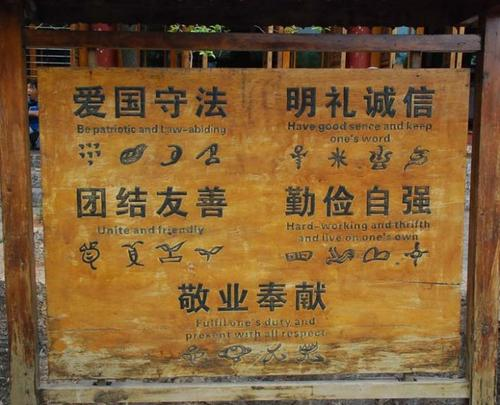chinese: (66, 80, 231, 119), (277, 79, 438, 117), (282, 180, 435, 219), (174, 278, 331, 316), (70, 183, 228, 220)
naxi: (75, 234, 225, 271), (72, 135, 225, 170), (283, 142, 431, 172), (279, 243, 432, 269), (173, 341, 330, 366)
